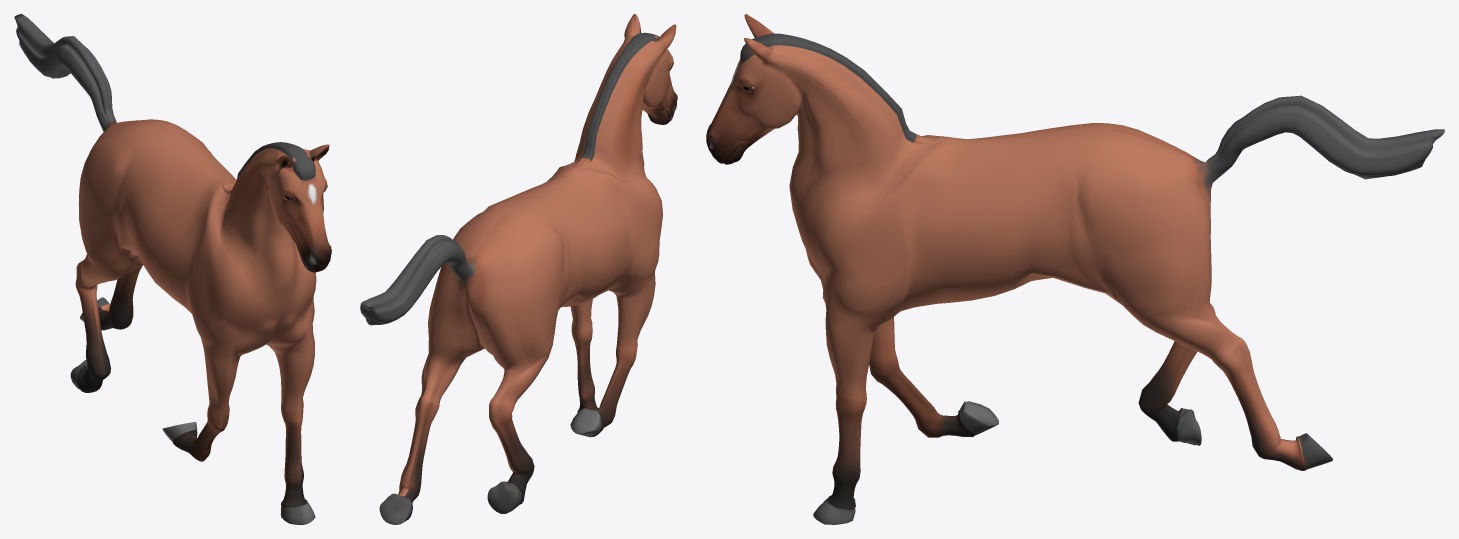
Rendered from horse_obj_2.obj.
3 renders of one model, left to right at view 1: azimuth 30°, elevation 25°; view 2: azimuth 150°, elevation 25°; view 3: azimuth 270°, elevation 25°, orthographic. The views are drawn at different scales.
Parts seen in each view (by area): view 1: Figure_1; view 2: Figure_1; view 3: Figure_1.
Part boxes in pixels (x1=…): Figure_1: x1=14, y1=14, x2=331, y2=524; Figure_1: x1=360, y1=14, x2=677, y2=524; Figure_1: x1=706, y1=14, x2=1444, y2=524.
Size of the model in its own units: 0.2421 by 0.8354 by 1.18.
Materials: 7 (7 with a texture image).
